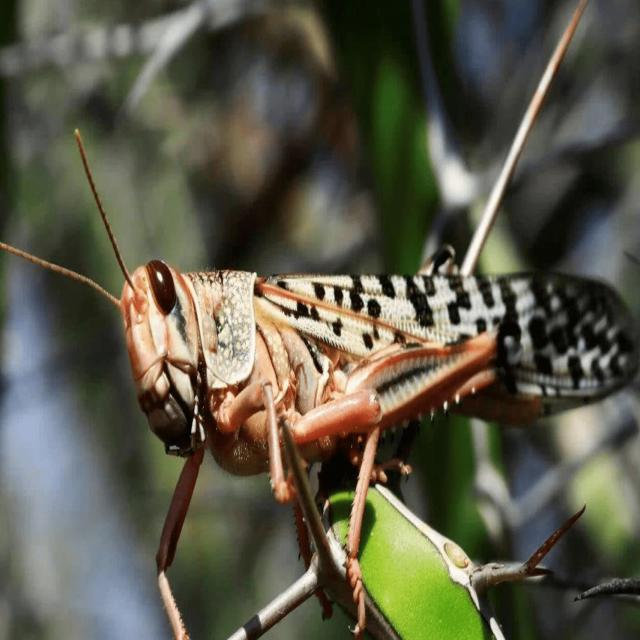ZhaMeng: (42, 109, 634, 590)
